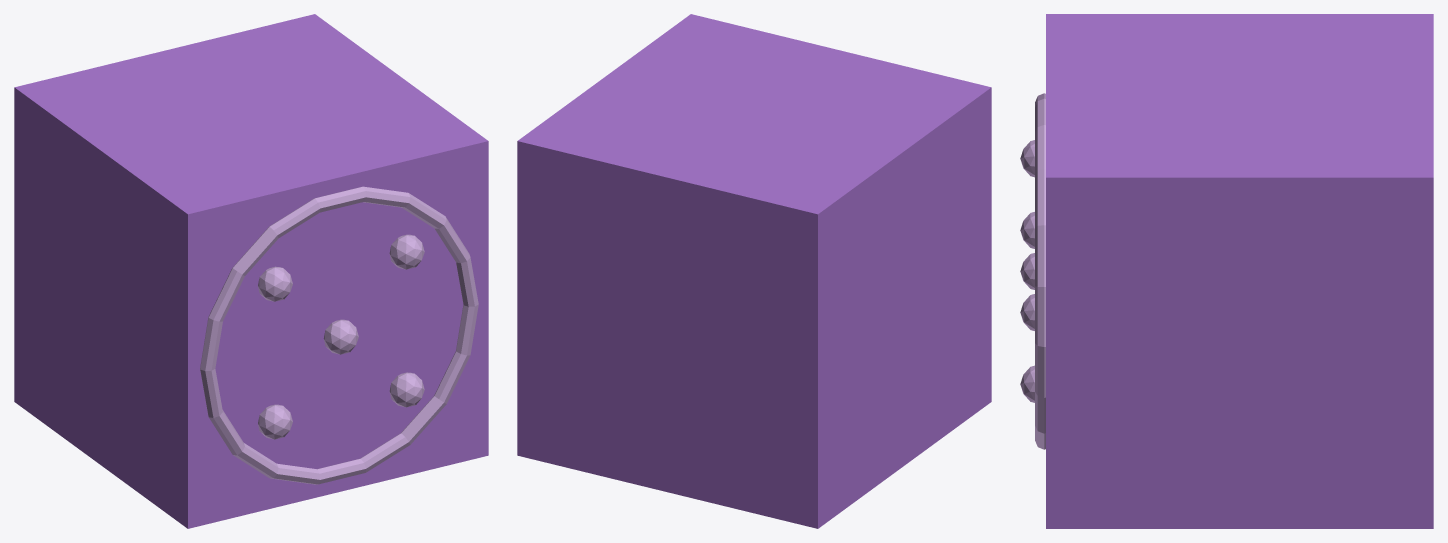
Rendered from zeit.glb.
3 views of the same model, side by side, from view 1: azimuth 30°, elevation 25°; view 2: azimuth 150°, elevation 25°; view 3: azimuth 270°, elevation 25° (orthographic). The views are drawn at different scales.
Visible parts, largest first — view 1: world; view 2: world; view 3: world.
Part boxes in pixels (box(x1,y1,x2,y2)): world: box(14, 14, 488, 528); world: box(517, 14, 991, 528); world: box(1020, 14, 1433, 528).
Size of the model in its own units: 1.05 by 1.05 by 1.12.
